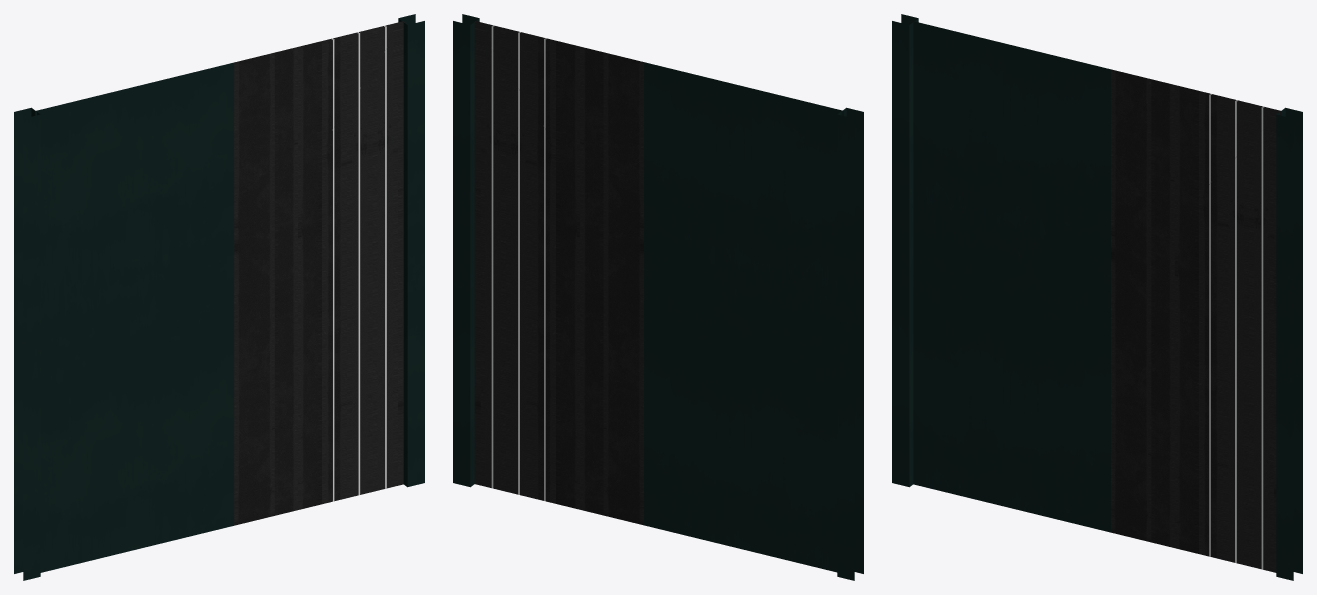
File: Window_3m_B.fbx
3 renders of one model, left to right at view 1: azimuth 30°, elevation 25°; view 2: azimuth 150°, elevation 25°; view 3: azimuth 330°, elevation 25°, orthographic.
Parts seen in each view (by area): view 1: Window_3m_B; view 2: Window_3m_B; view 3: Window_3m_B.
Boxes of the visible parts, left/top/right/bottom form: Window_3m_B: left=14, top=14, right=424, bottom=580; Window_3m_B: left=453, top=14, right=863, bottom=580; Window_3m_B: left=892, top=14, right=1302, bottom=580.
Size of the model in its own units: 118 by 130 by 4.72.
